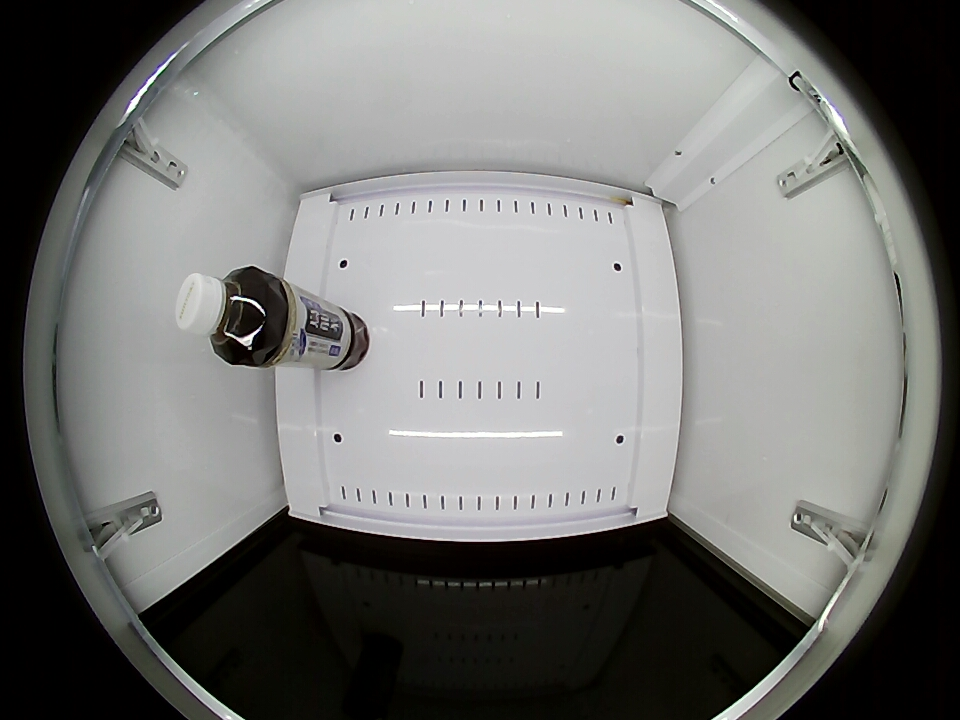wulongcha: (176, 267, 275, 364)
